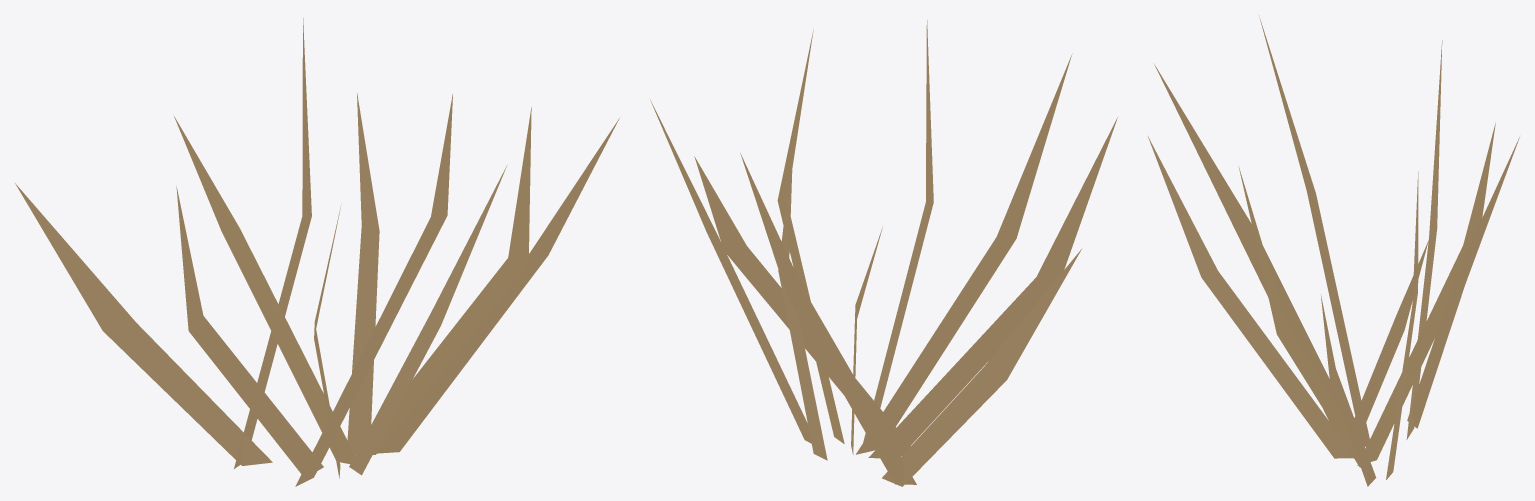
Rendered from Dead_Bush_b_04.fbx.
The picture shows the model from 3 angles, left to right: view 1: azimuth 30°, elevation 25°; view 2: azimuth 150°, elevation 25°; view 3: azimuth 270°, elevation 25°; orthographic projection. The views are drawn at different scales.
Parts seen in each view (by area): view 1: Dead_Bush_b_04; view 2: Dead_Bush_b_04; view 3: Dead_Bush_b_04.
Part boxes in pixels (x1=…): Dead_Bush_b_04: x1=15, y1=18, x2=619, y2=486; Dead_Bush_b_04: x1=650, y1=20, x2=1117, y2=486; Dead_Bush_b_04: x1=1148, y1=15, x2=1519, y2=486.
Bounding box in the file's own units: 0.8558 × 0.5848 × 0.5621.
